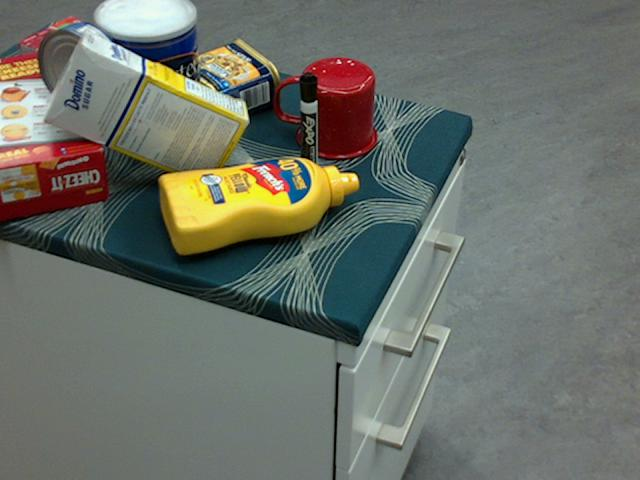cracker_box: (0, 52, 109, 219)
gelatin_box: (21, 17, 116, 79)
large_marker: (298, 72, 318, 179)
master_chef_can: (96, 0, 201, 153)
mug: (274, 57, 375, 159)
mustard_bottle: (158, 157, 359, 254)
potted_meat_can: (174, 38, 281, 125)
sugar_box: (44, 32, 250, 186)
tomato_soup_can: (85, 11, 171, 101)
tuna_fish_can: (37, 22, 125, 112)
